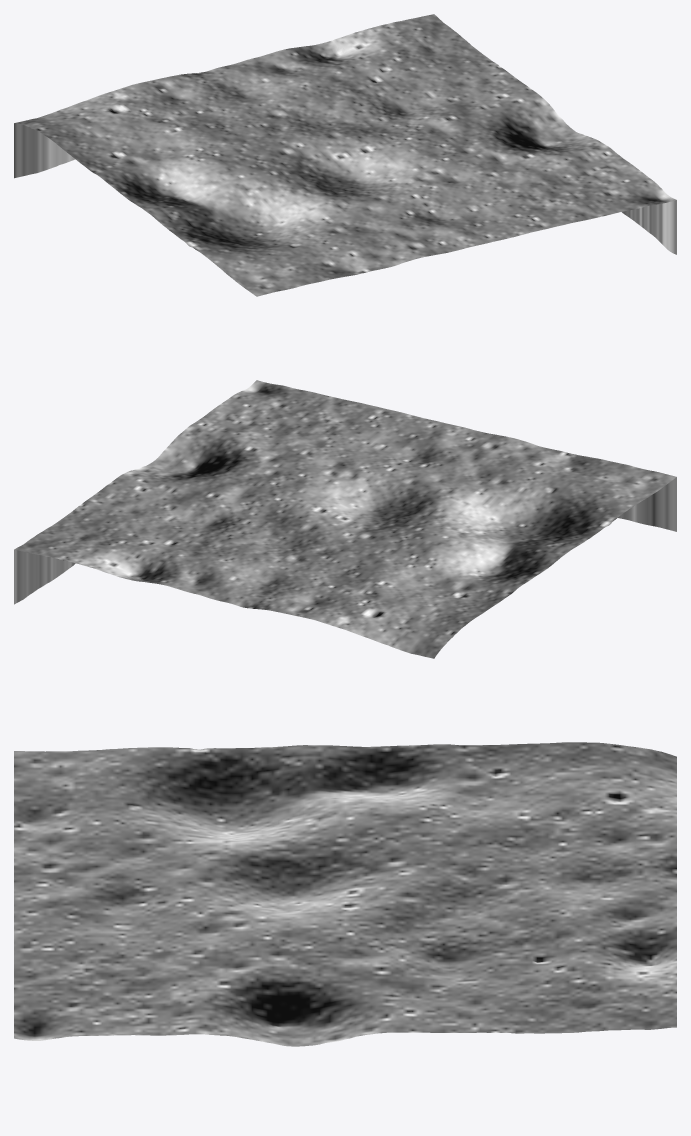
3 views of the same model, one above another, from view 1: azimuth 30°, elevation 25°; view 2: azimuth 150°, elevation 25°; view 3: azimuth 270°, elevation 25° (orthographic). The views are drawn at different scales.
Bounding box in the file's own units: 638 × 106 × 639.
1 material, 1 textured.
